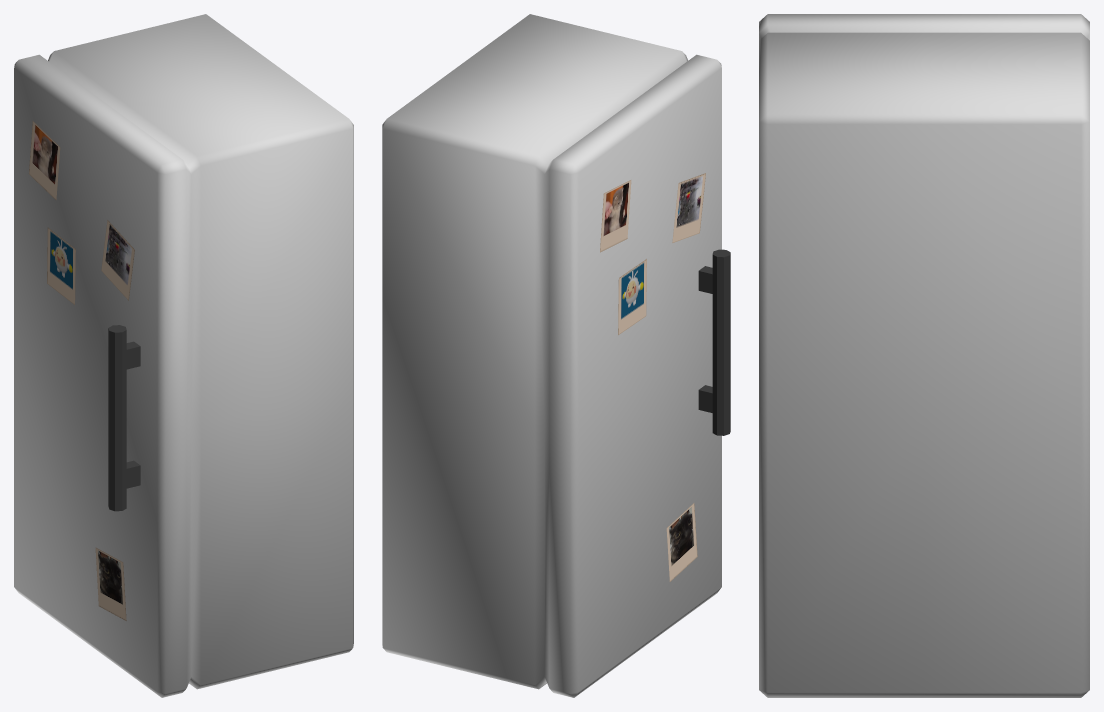
File: Fridge.fbx
The picture shows the model from 3 angles, left to right: view 1: azimuth 30°, elevation 25°; view 2: azimuth 150°, elevation 25°; view 3: azimuth 270°, elevation 25°; orthographic projection. The views are drawn at different scales.
Parts seen in each view (by area): view 1: Fridge, Polaroids, FridgeHandle; view 2: Fridge, Polaroids, FridgeHandle; view 3: Fridge.
Part boxes in pixels (x1=…): Fridge: x1=14, y1=14, x2=353, y2=697; Polaroids: x1=29, y1=121, x2=134, y2=620; FridgeHandle: x1=108, y1=325, x2=140, y2=511; Fridge: x1=382, y1=14, x2=721, y2=697; Polaroids: x1=600, y1=173, x2=705, y2=581; FridgeHandle: x1=698, y1=249, x2=730, y2=435; Fridge: x1=759, y1=14, x2=1089, y2=697.
Size of the model in its own units: 514 by 1169 by 600.
